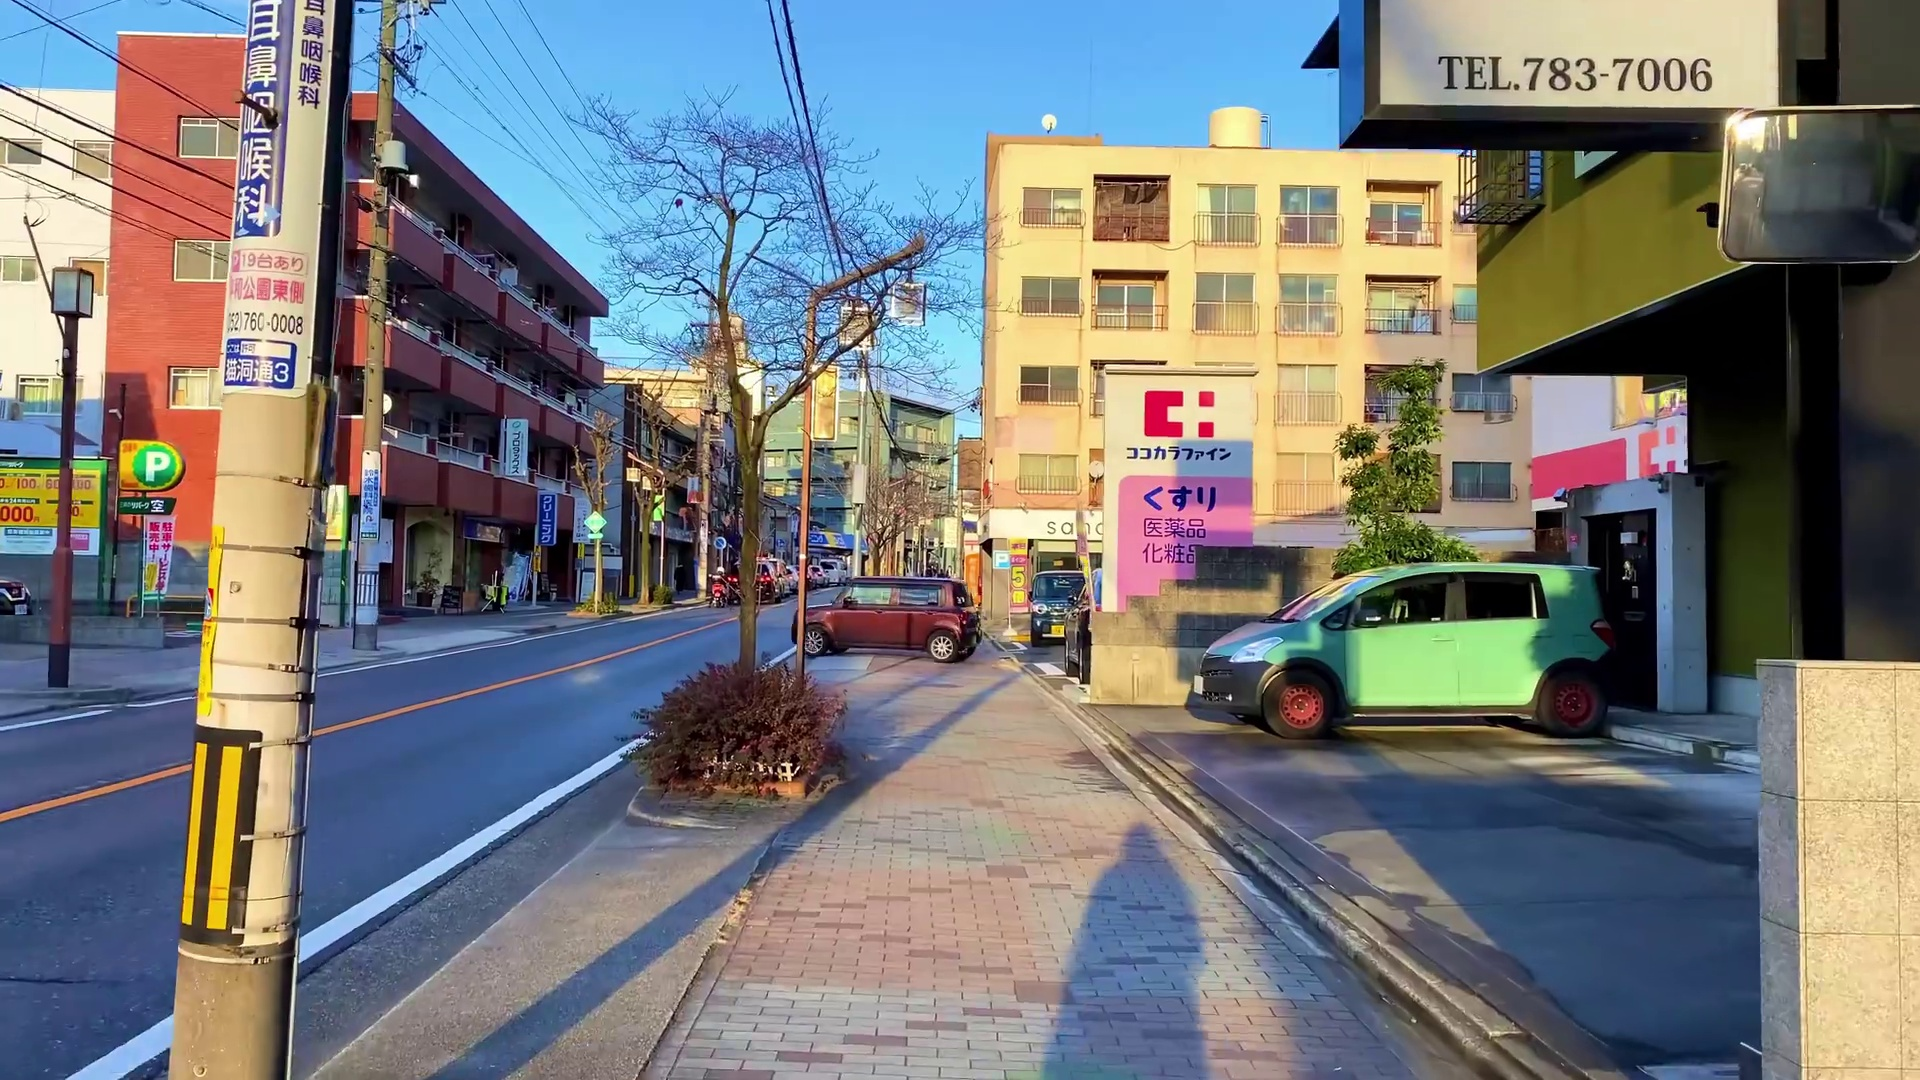car: (1197, 564, 1619, 746), (793, 574, 986, 667)
